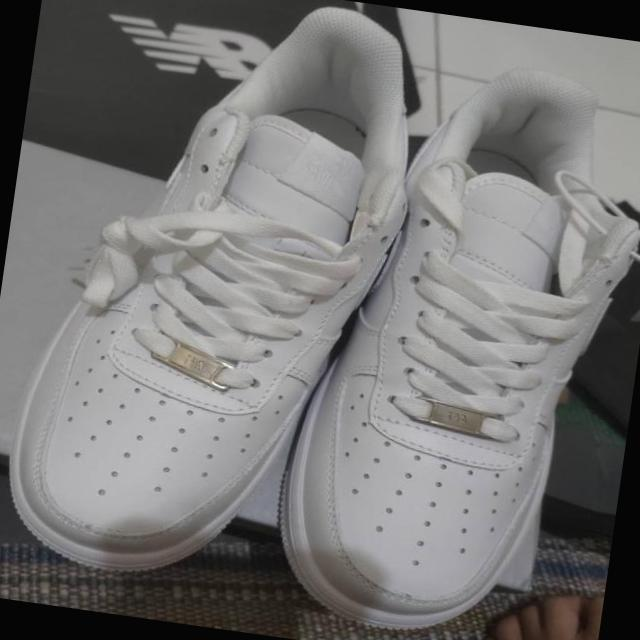nike_fake_airforce: (0, 0, 432, 607), (248, 15, 640, 640)
